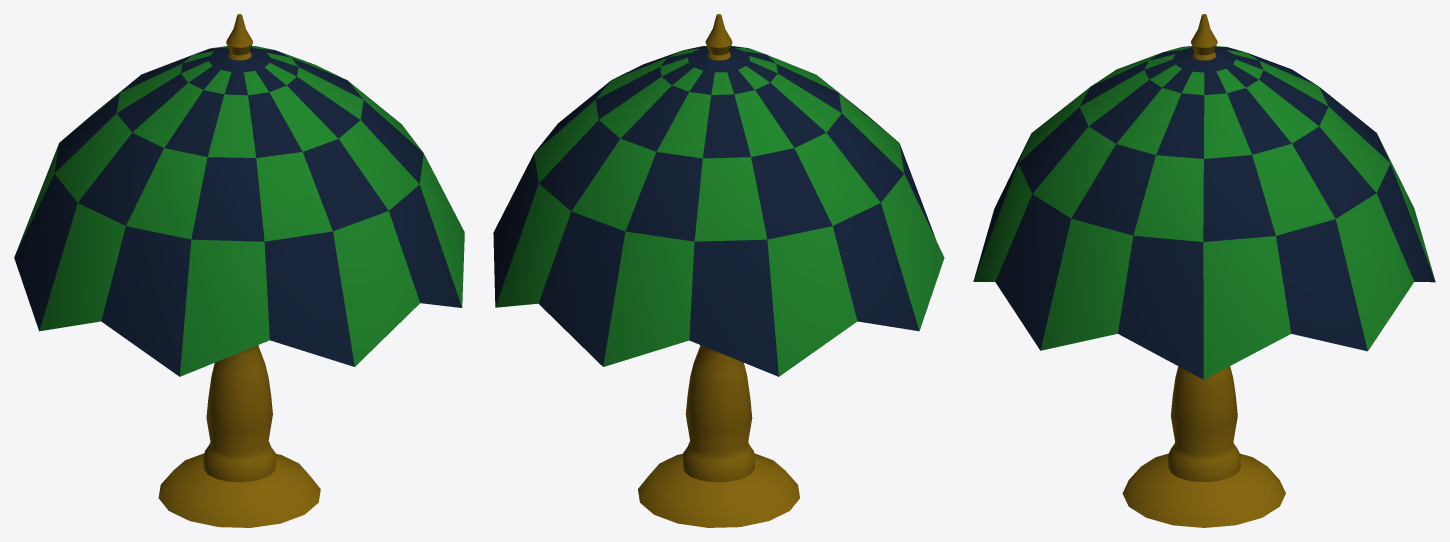
Rendered from Thorn room table Lamp.fbx.
The picture shows the model from 3 angles, left to right: view 1: azimuth 30°, elevation 25°; view 2: azimuth 150°, elevation 25°; view 3: azimuth 270°, elevation 25°; orthographic projection.
Parts seen in each view (by area): view 1: Sphere001; view 2: Sphere001; view 3: Sphere001.
Part boxes in pixels (x1,y1,x2,y2): Sphere001: (14, 14, 464, 527); Sphere001: (493, 14, 944, 527); Sphere001: (973, 14, 1435, 527).
Bounding box in the file's own units: 24.33 × 24.33 × 27.77.
